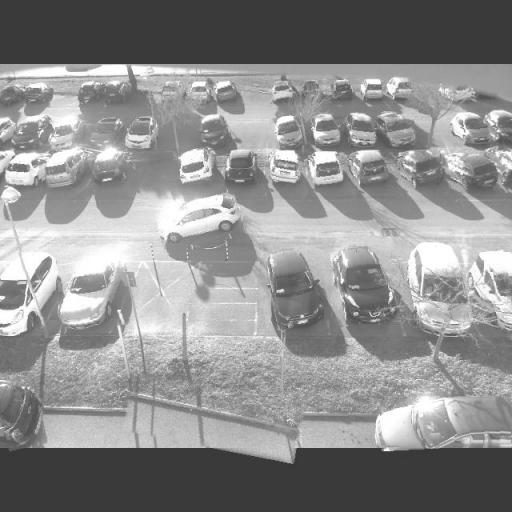busy: (401, 243, 484, 336), (380, 395, 512, 450), (332, 243, 408, 325), (54, 254, 128, 332), (267, 244, 328, 328), (1, 252, 60, 336), (156, 195, 244, 251), (0, 376, 44, 449), (444, 149, 506, 193), (470, 251, 512, 313), (399, 148, 451, 188), (39, 150, 91, 190), (348, 150, 398, 188), (172, 145, 218, 186), (377, 108, 423, 148), (448, 113, 500, 146), (88, 150, 133, 188), (2, 152, 46, 190), (342, 110, 384, 148), (46, 116, 88, 152), (220, 150, 263, 184), (270, 114, 310, 150), (121, 118, 164, 151), (306, 113, 346, 148), (308, 153, 348, 188), (12, 116, 52, 150), (192, 115, 232, 149), (267, 150, 304, 184), (88, 119, 126, 147), (438, 78, 474, 104), (16, 82, 53, 107), (100, 81, 136, 105), (494, 150, 512, 192), (488, 112, 512, 142), (212, 80, 241, 104), (78, 81, 106, 103), (360, 79, 386, 102), (0, 84, 25, 107), (270, 81, 296, 103), (297, 80, 324, 100), (331, 79, 355, 99), (386, 78, 412, 96), (0, 120, 16, 149)
free: (124, 381, 303, 456), (126, 149, 178, 187), (414, 112, 453, 147), (238, 79, 274, 107), (409, 78, 444, 102), (235, 124, 272, 146), (50, 81, 82, 106), (131, 82, 163, 104)
